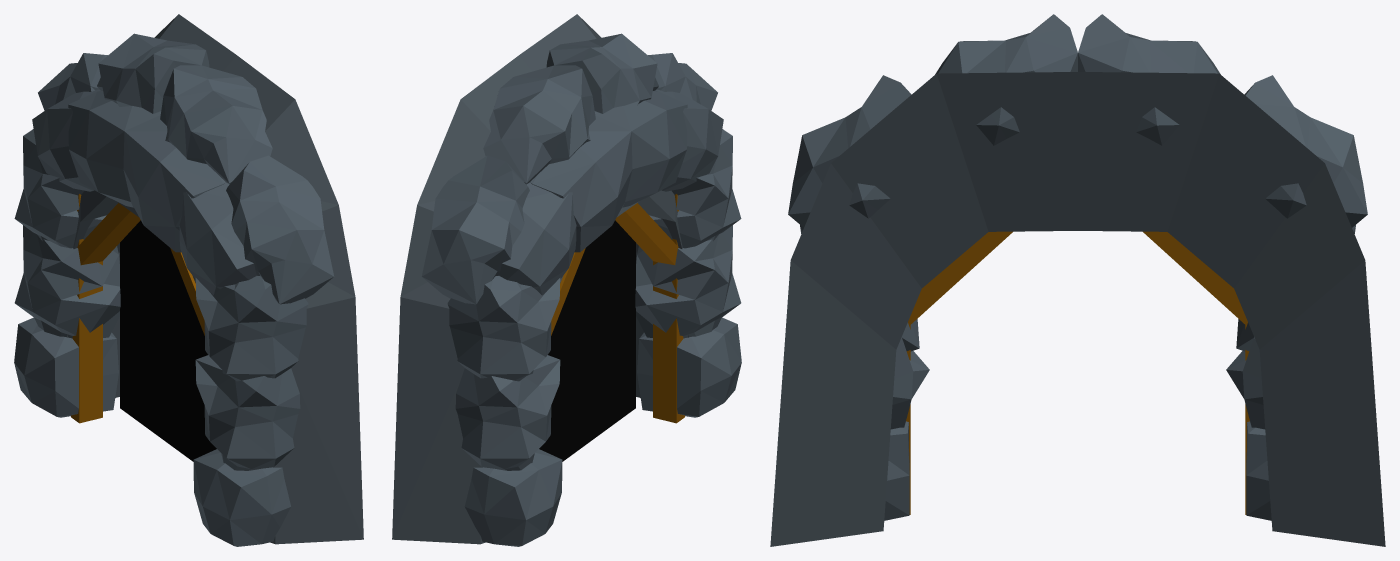
Rendered from Tunnel.obj.
3 views of the same model, side by side, from view 1: azimuth 30°, elevation 25°; view 2: azimuth 150°, elevation 25°; view 3: azimuth 270°, elevation 25° (orthographic). The views are drawn at different scales.
Visible parts, largest first — view 1: Tunnel_Cube.032; view 2: Tunnel_Cube.032; view 3: Tunnel_Cube.032.
Part boxes in pixels (x1,y1,x2,y2): Tunnel_Cube.032: (14,14,363,546); Tunnel_Cube.032: (392,14,741,546); Tunnel_Cube.032: (770,14,1385,546).
Size of the model in its own units: 2.23 by 7.13 by 7.85.
1 material, 1 textured.
